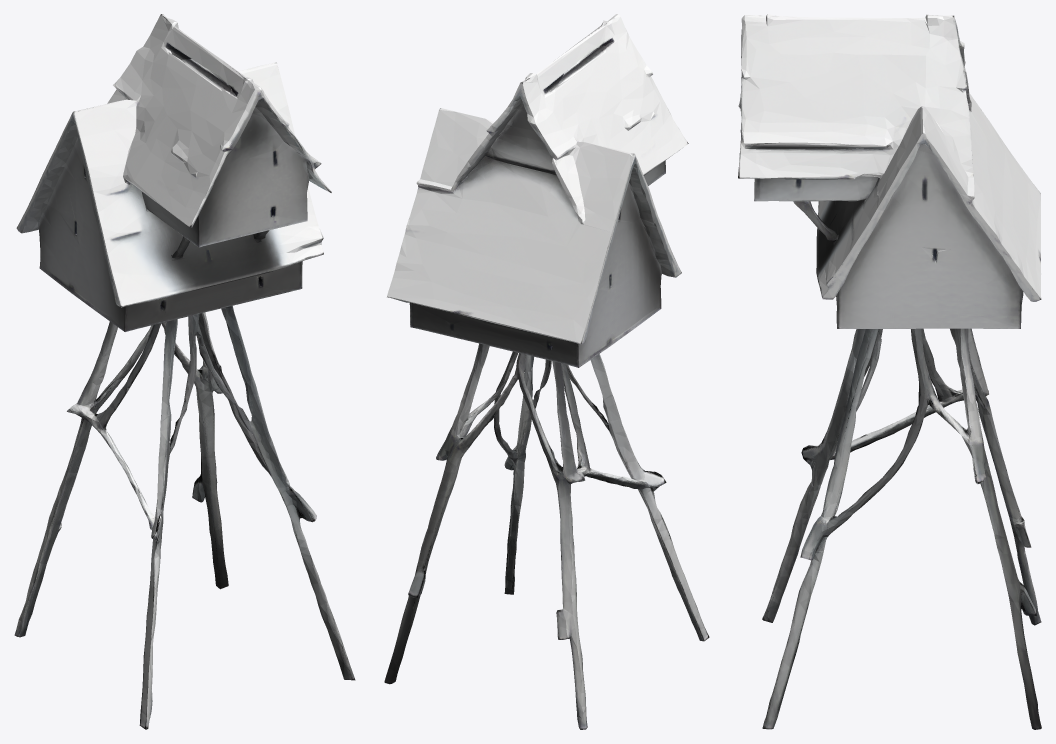
File: post.glb
The picture shows the model from 3 angles, left to right: view 1: azimuth 30°, elevation 25°; view 2: azimuth 150°, elevation 25°; view 3: azimuth 270°, elevation 25°; orthographic projection. The views are drawn at different scales.
Visible parts, largest first — view 1: world; view 2: world; view 3: world.
Part boxes in pixels (x1,y1,x2,y2): world: (14,14,355,729); world: (384,14,709,729); world: (738,14,1041,729).
Bounding box in the file's own units: 0.3538 × 1 × 0.4168.
Materials: 1 (1 with a texture image).
